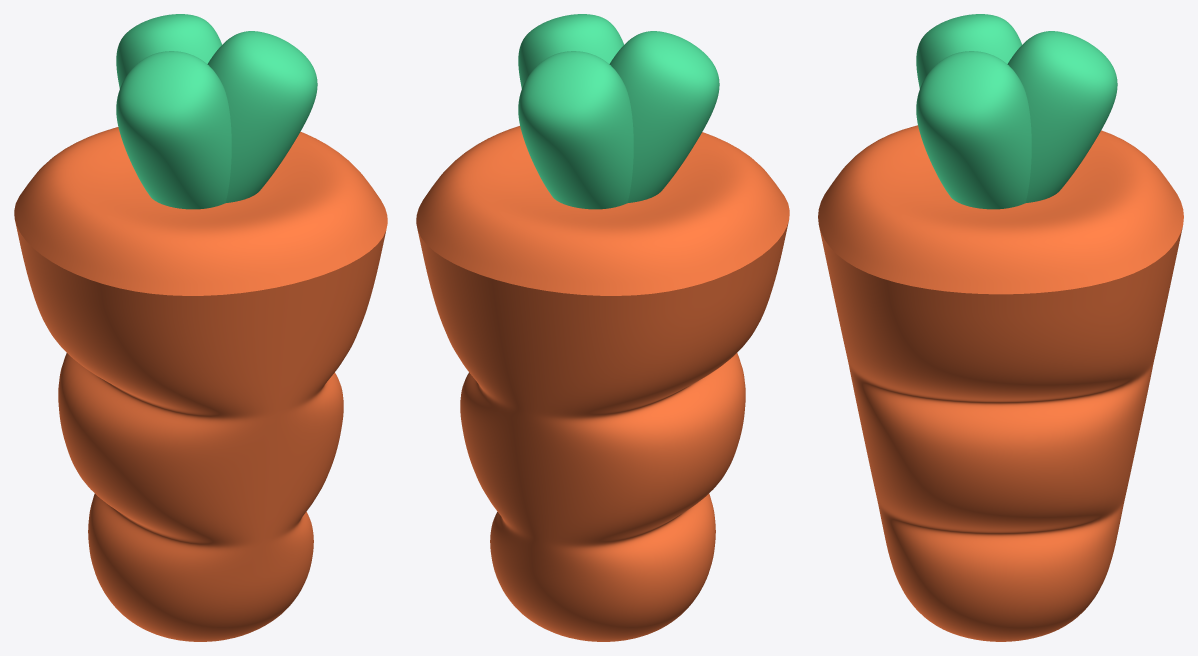
File: Carrot.fbx
The picture shows the model from 3 angles, left to right: view 1: azimuth 30°, elevation 25°; view 2: azimuth 150°, elevation 25°; view 3: azimuth 270°, elevation 25°; orthographic projection.
Visible parts, largest first — view 1: Cube, Cube.002, Cube.003, Cube.001; view 2: Cube, Cube.001, Cube.002, Cube.003; view 3: Cube, Cube.003, Cube.001, Cube.002.
Part boxes in pixels (x1,y1,x2,y2): Cube: [14, 127, 387, 641]; Cube.002: [116, 51, 231, 209]; Cube.003: [207, 31, 317, 202]; Cube.001: [116, 14, 221, 88]; Cube: [416, 126, 789, 641]; Cube.001: [518, 51, 633, 209]; Cube.002: [609, 31, 719, 202]; Cube.003: [518, 14, 623, 88]; Cube: [818, 125, 1183, 641]; Cube.003: [916, 51, 1031, 209]; Cube.001: [1007, 31, 1117, 202]; Cube.002: [916, 14, 1021, 88].
Bounding box in the file's own units: 183 × 326 × 183.
